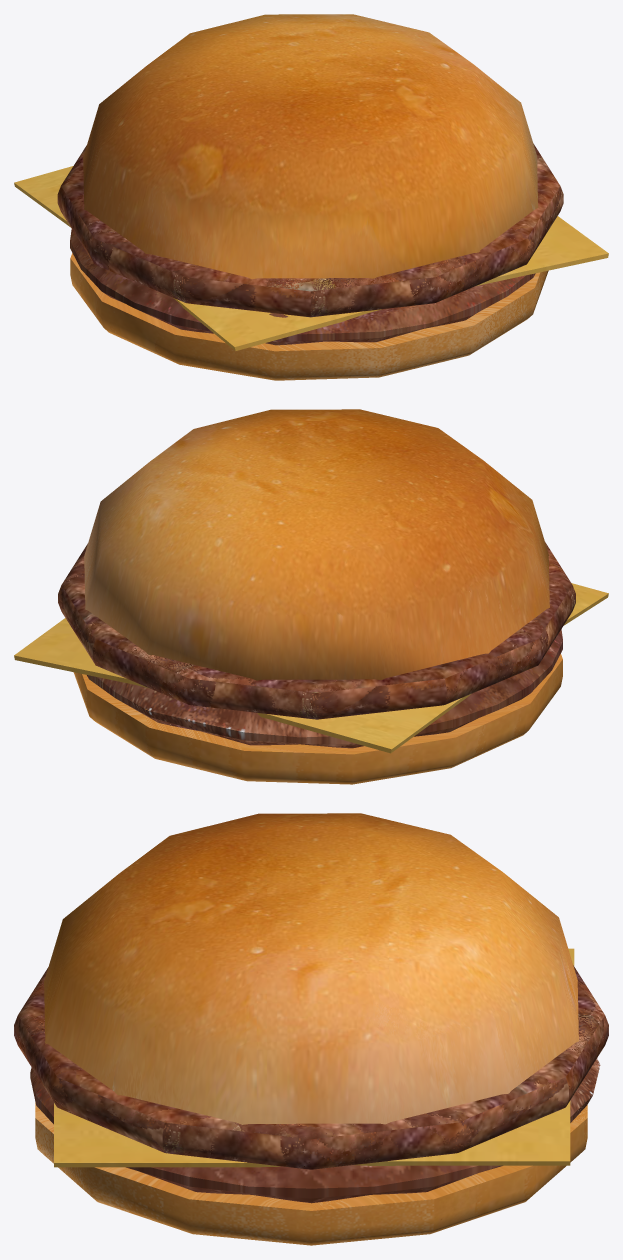
File: Burg.FBX
The picture shows the model from 3 angles, top to bottom: view 1: azimuth 30°, elevation 25°; view 2: azimuth 150°, elevation 25°; view 3: azimuth 270°, elevation 25°; orthographic projection. The views are drawn at different scales.
Visible parts, largest first — view 1: Cylinder001; view 2: Cylinder001; view 3: Cylinder001.
Part boxes in pixels (bbox=[...]): Cylinder001: bbox=[14, 14, 608, 380]; Cylinder001: bbox=[14, 409, 608, 784]; Cylinder001: bbox=[14, 813, 608, 1245].
Size of the model in its own units: 140 by 66.63 by 140.
1 material, 1 textured.
